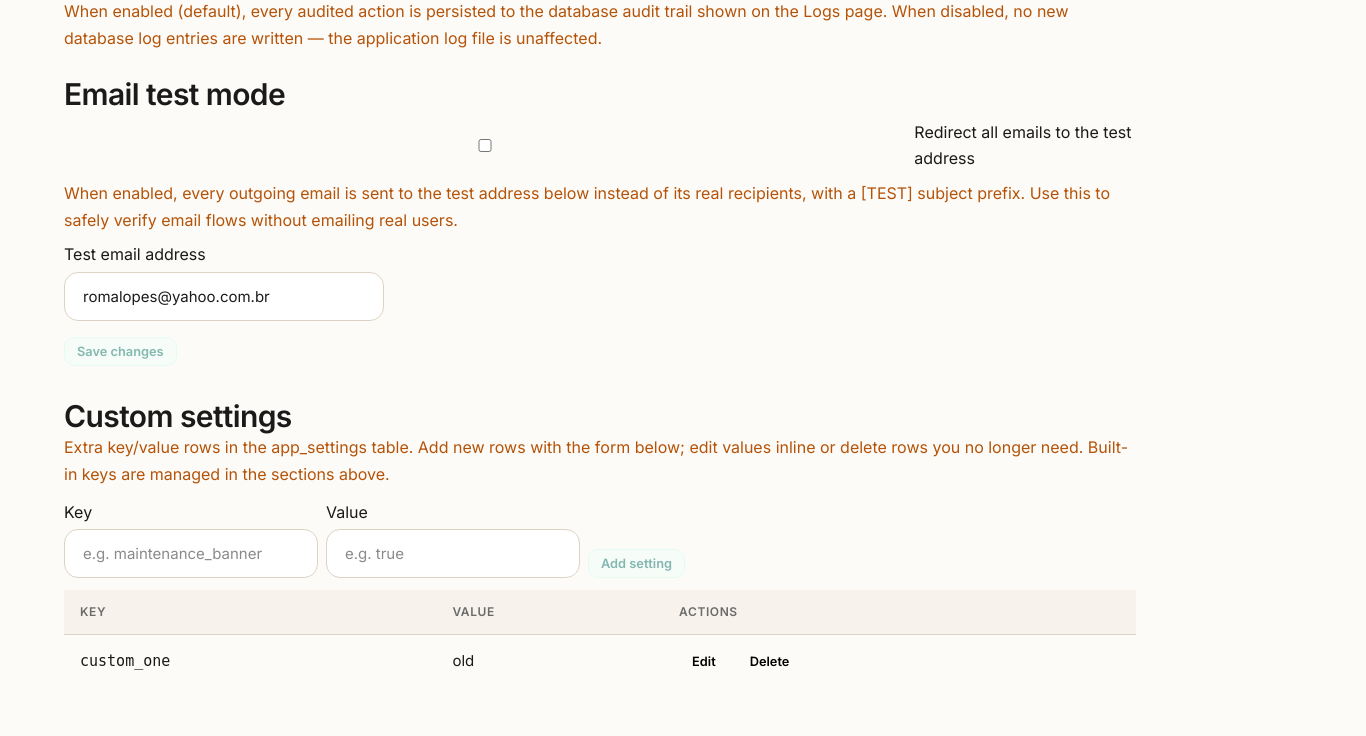
Test: ConfigurationSettings page › deletes a custom setting after confirmation
(page scrolled)
Expected: the text "custom_one" is shown, left=80, top=652, right=170, bottom=670
Click the button "Delete".
click(770, 661)  # box left=737, top=647, right=802, bottom=676
(page scrolled)
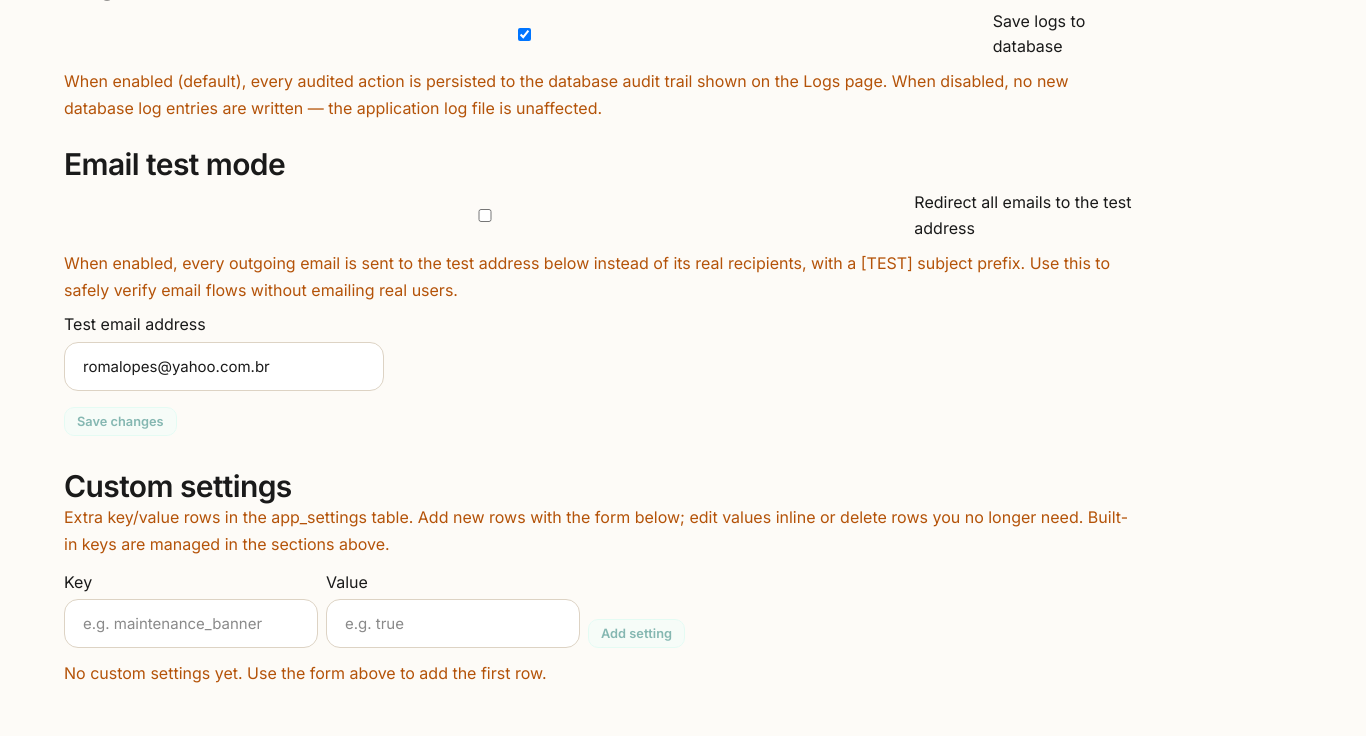
Result: the text "No custom settings yet" is shown at left=64, top=664, right=546, bottom=684
